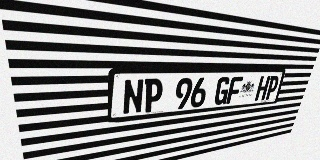6: (190, 77, 209, 108)
9: (174, 78, 194, 110)
F: (226, 77, 243, 104)
G: (213, 77, 231, 105)
H: (254, 76, 271, 101)
N: (122, 79, 144, 115)
P: (143, 78, 164, 113), (264, 76, 280, 100)
